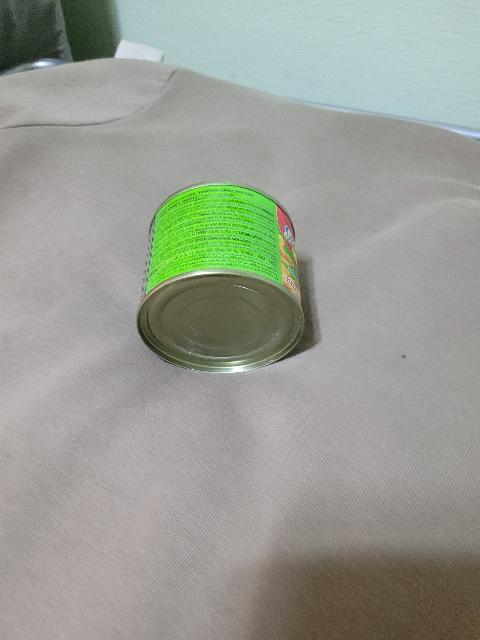Metal: (135, 186, 305, 372)
